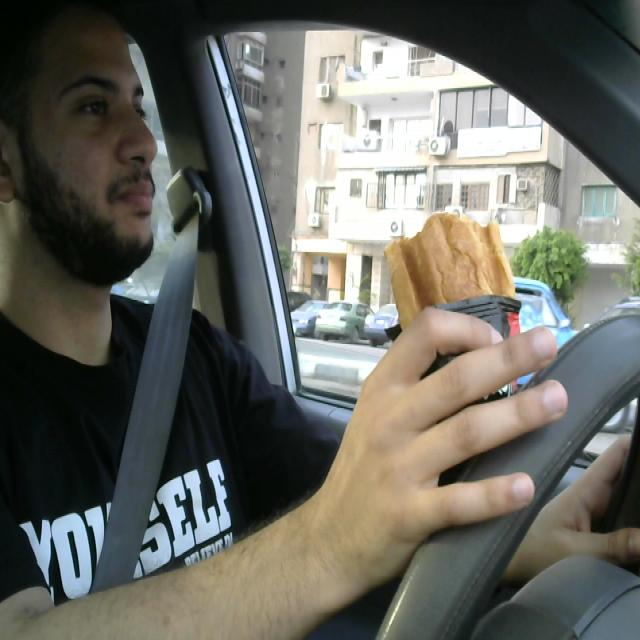eating: (380, 199, 528, 512)
